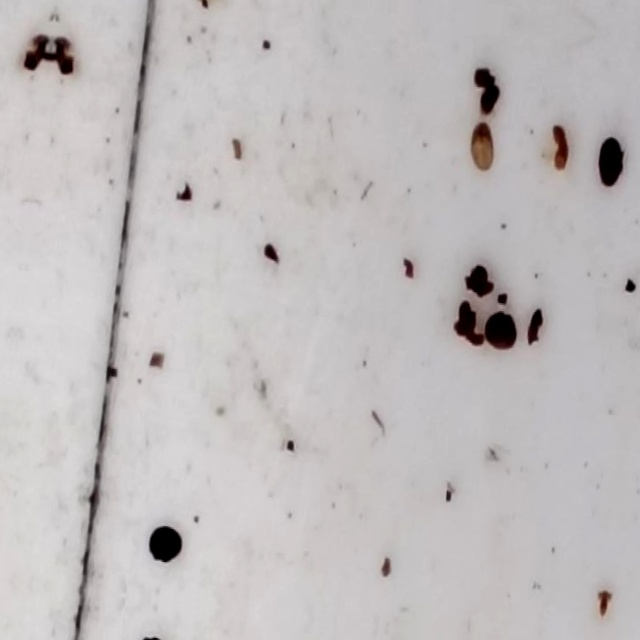varroa: (592, 135, 629, 190), (145, 522, 186, 567), (481, 309, 518, 355)
